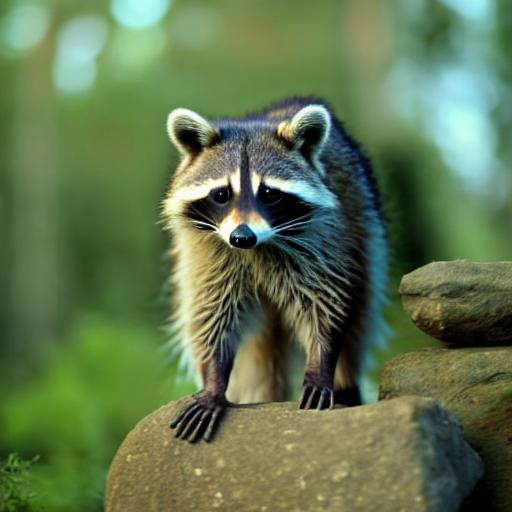raccoon: (151, 82, 403, 385)
